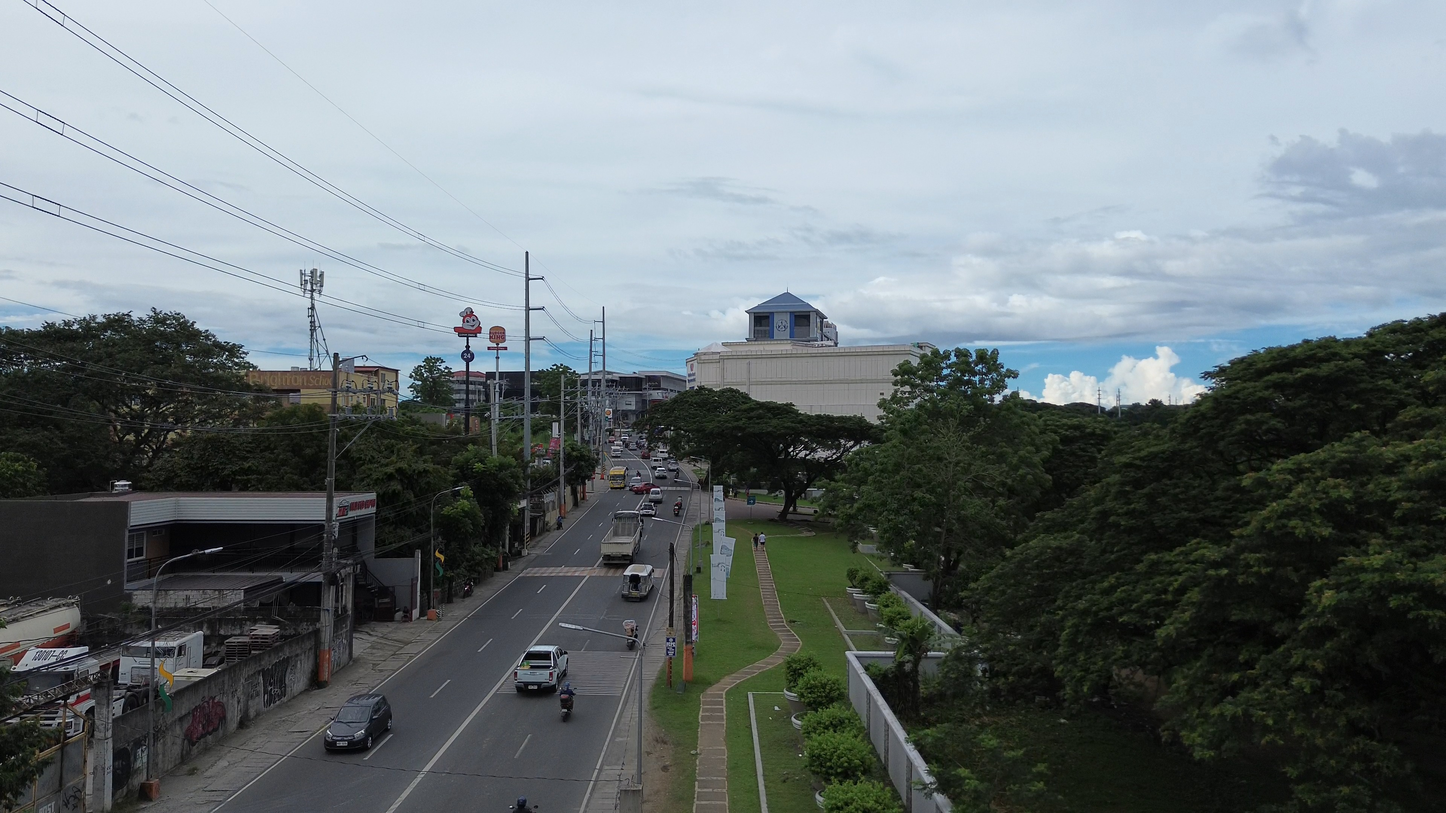car: (630, 478, 654, 493), (666, 460, 679, 471)
motorcycle: (559, 684, 575, 722), (623, 620, 638, 650), (462, 579, 474, 598), (673, 500, 682, 516)
vehicle: (14, 647, 114, 735), (0, 598, 81, 663), (324, 694, 391, 750), (514, 645, 567, 692), (601, 511, 642, 563), (156, 631, 204, 673), (622, 564, 655, 601), (559, 683, 575, 721), (607, 466, 627, 489), (630, 478, 654, 494), (638, 500, 656, 516), (648, 487, 663, 504), (653, 466, 670, 480), (665, 459, 679, 472), (630, 474, 643, 485), (639, 447, 650, 459)
